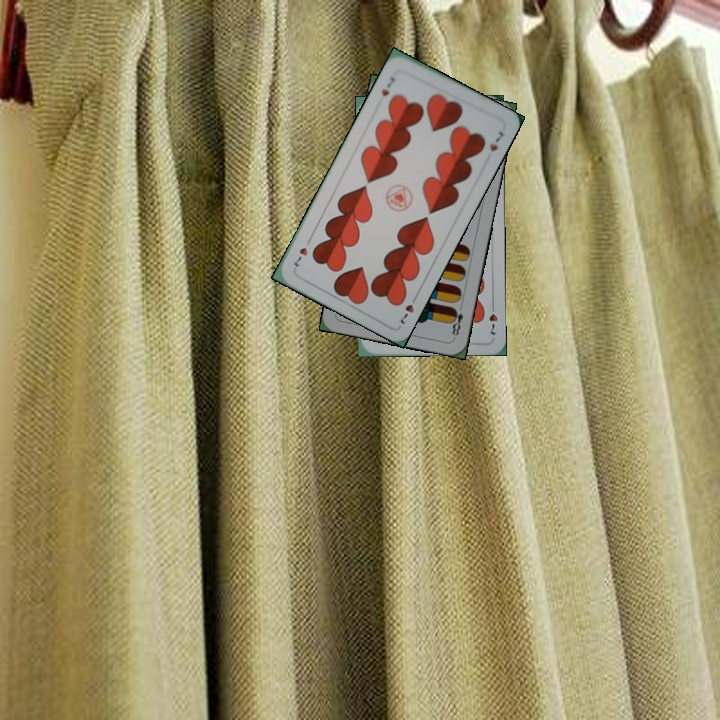E8: (447, 301, 466, 340)
H7: (396, 290, 421, 327), (485, 298, 501, 338), (377, 72, 398, 99)
